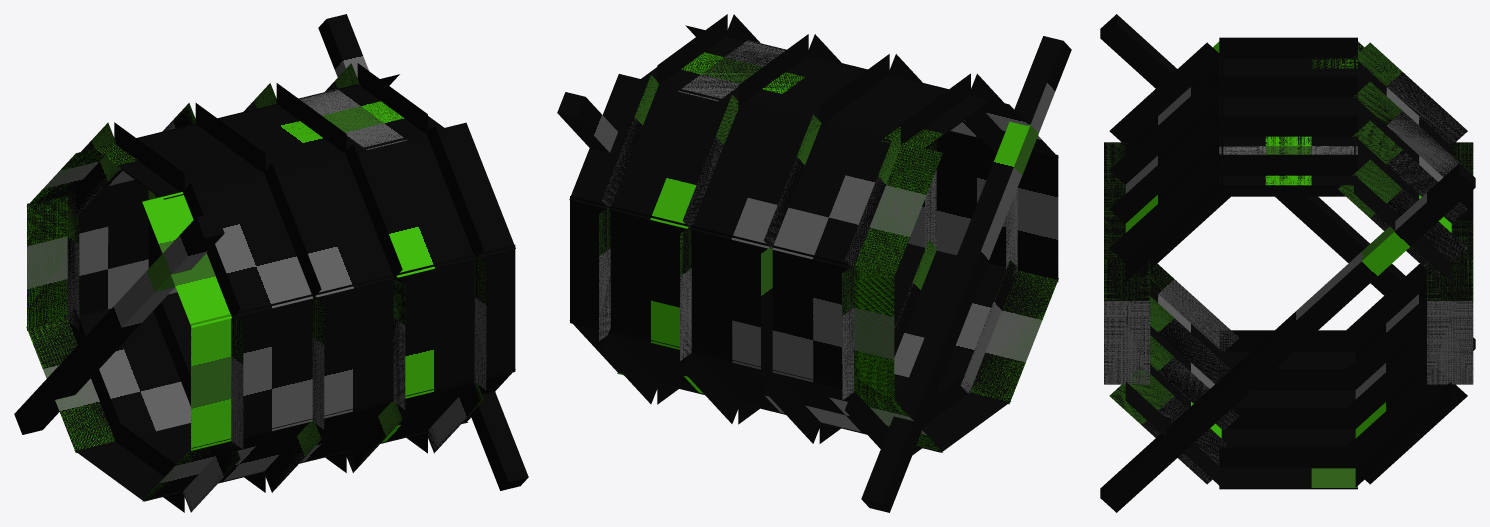
Rendered from barbed_wire_poison.obj.
The picture shows the model from 3 angles, left to right: view 1: azimuth 30°, elevation 25°; view 2: azimuth 150°, elevation 25°; view 3: azimuth 270°, elevation 25°; orthographic projection.
Visible parts, largest first — view 1: cube; view 2: cube; view 3: cube.
Boxes of the visible parts, <box> form: cube: <box>14,14,528,512</box>; cube: <box>557,14,1071,512</box>; cube: <box>1100,14,1475,512</box>.
Bounding box in the file's own units: 1 × 1.03 × 1.02.
